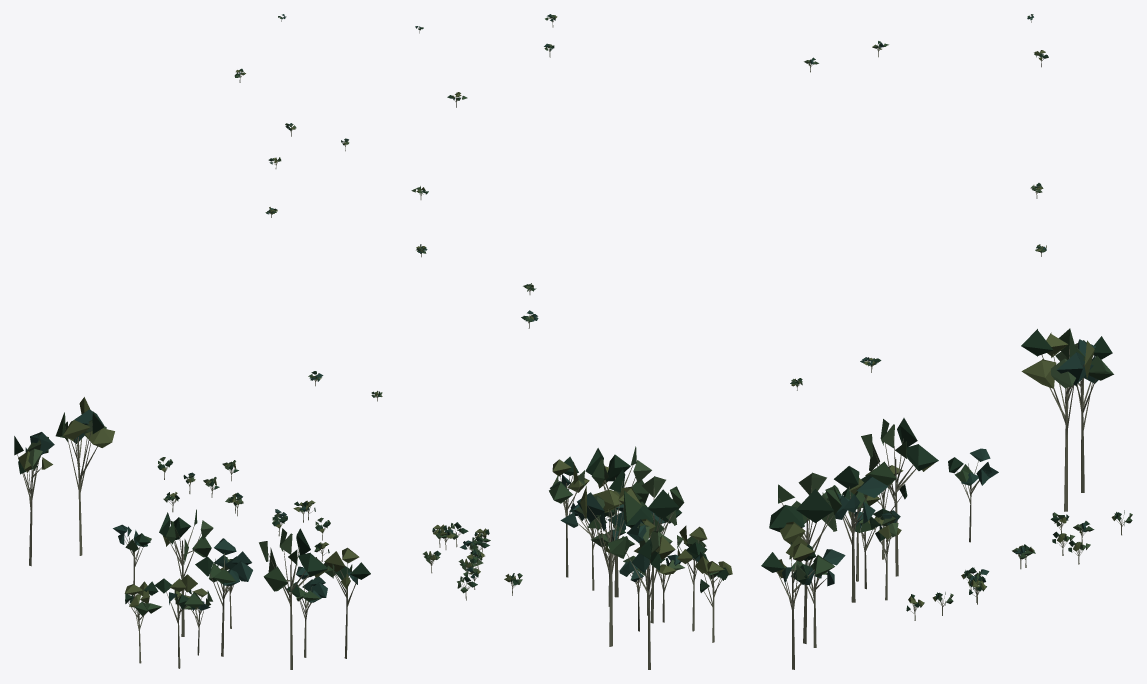
Rendered from forest_19_22.dae.
3 views of the same model, side by side, from view 1: azimuth 30°, elevation 25°; view 2: azimuth 150°, elevation 25°; view 3: azimuth 270°, elevation 25° (orthographic). The views are drawn at different scales.
Visible parts, largest first — view 1: Node; view 2: Node; view 3: Node.
Part boxes in pixels (x1,y1,x2,y2): Node: (14,14,382,669); Node: (411,14,732,669); Node: (761,14,1132,669).
Size of the model in its own units: 10.52 by 11.08 by 22.27.
